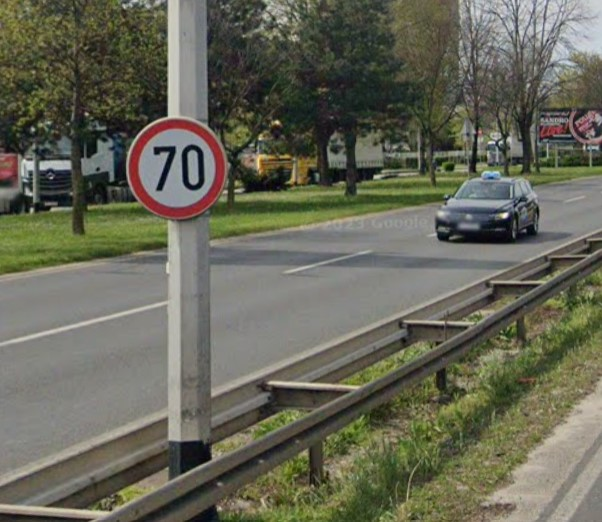Ograničenje brzine 70: (125, 116, 227, 221)
